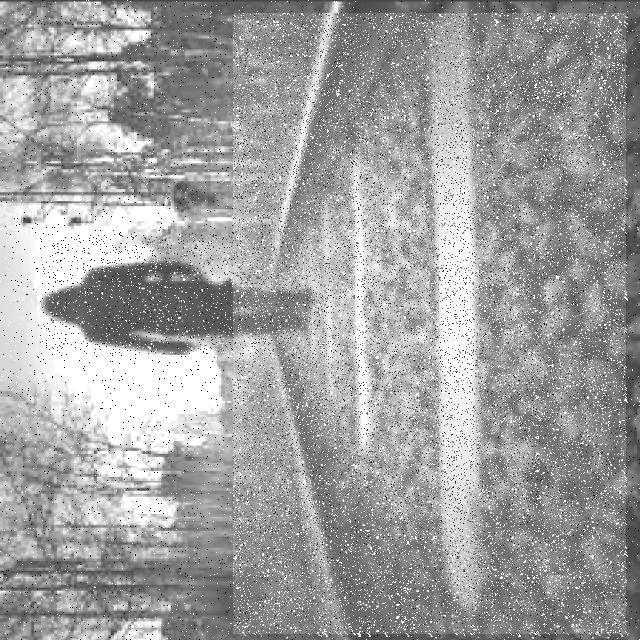rail: (234, 14, 627, 635)
